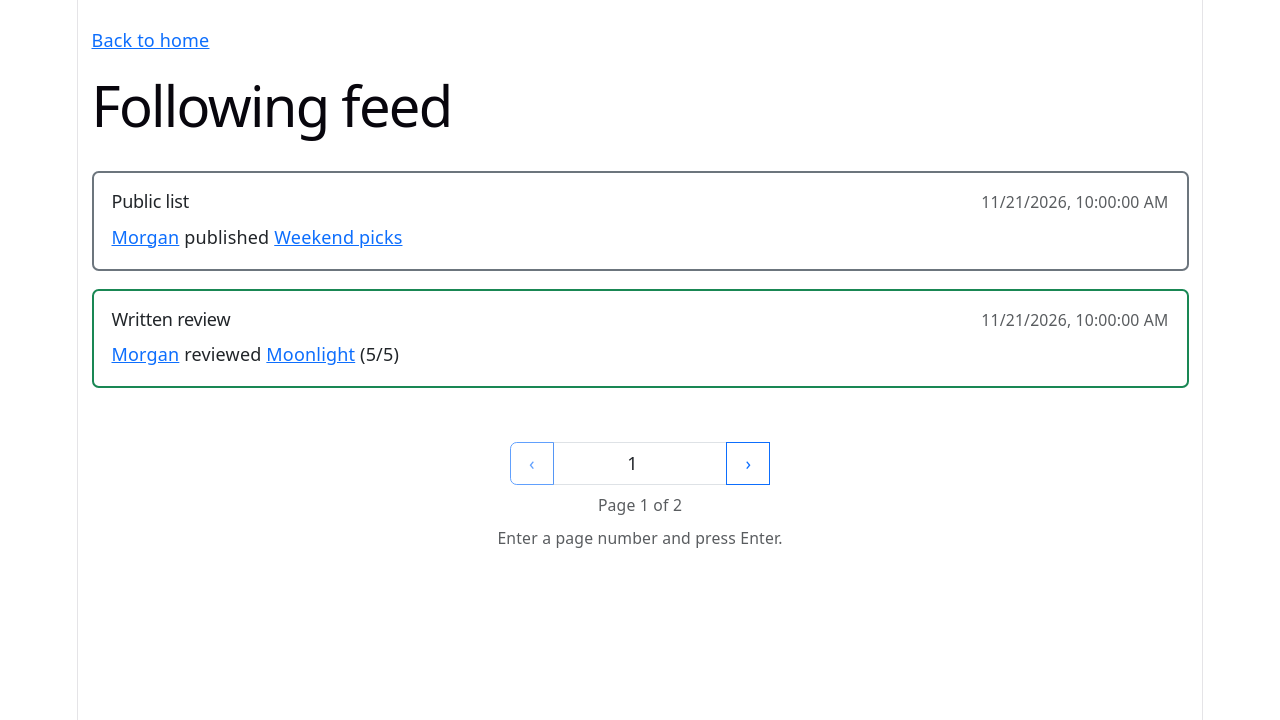
renders the API feed in order and loads the next page
Expected: the link "Weekend picks" is shown, [274,225,402,249]
Expected: the heading "Public list" is shown, [112,191,189,213]
Click the button named "Next" at [748, 464], box [726,442,770,485]
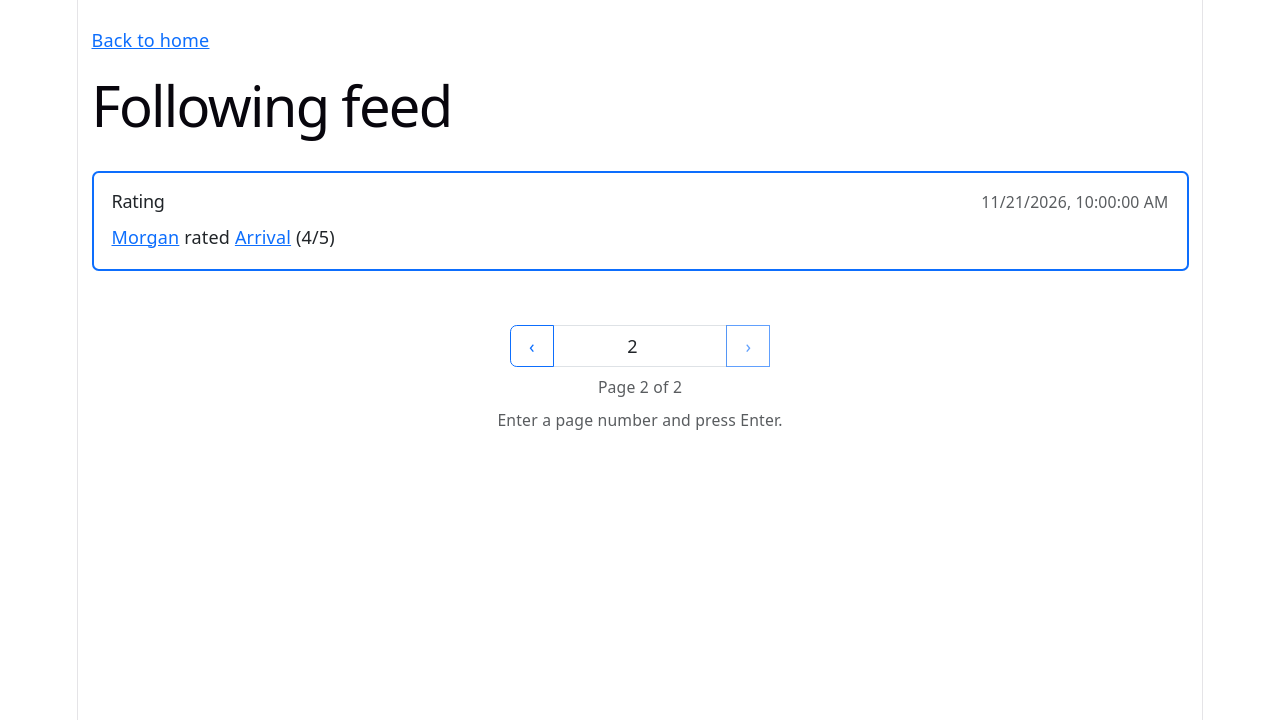
Expected: the link "Arrival" is shown, [235,225,291,249]
Expected: the heading "Rating" is shown, [112,191,165,213]
Expected: the list item shows "Morgan rated Arrival (4/5)", [92,171,1188,271]
